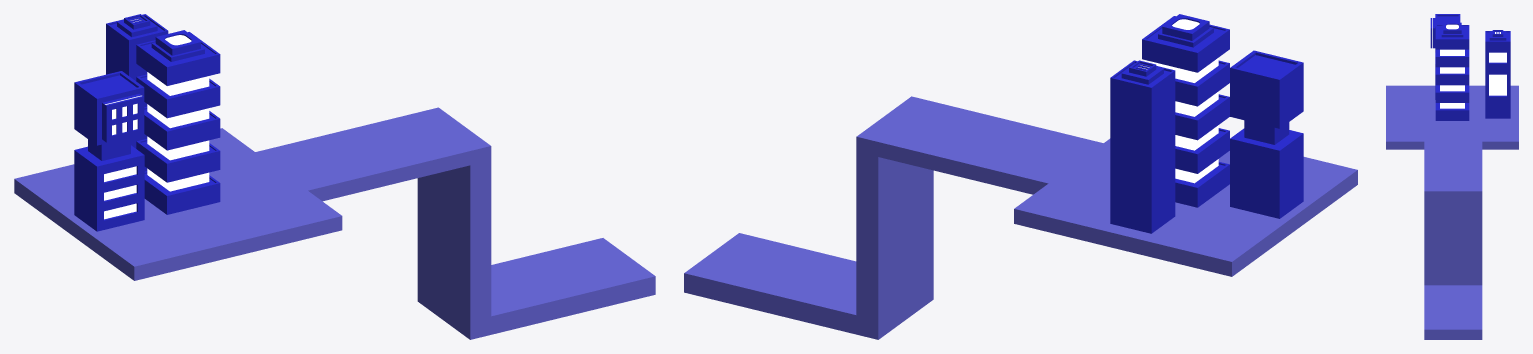
File: threejs.gltf
The picture shows the model from 3 angles, left to right: view 1: azimuth 30°, elevation 25°; view 2: azimuth 150°, elevation 25°; view 3: azimuth 270°, elevation 25°; orthographic projection. The views are drawn at different scales.
Parts seen in each view (by area): view 1: Plane.003, Cube, Plane.002, Plane.001, Plane; view 2: Plane.003, Plane.002, Plane.001, Cube, Plane; view 3: Plane.003, Cube, Plane.001, Plane, Plane.002.
Boxes of the visible parts, x1,y1,x2,y2 form: Plane.003: (14, 107, 655, 339); Cube: (136, 30, 220, 214); Plane.002: (74, 71, 144, 231); Plane.001: (106, 14, 168, 171); Plane: (147, 72, 209, 191); Plane.003: (684, 96, 1357, 339); Plane.002: (1230, 50, 1303, 218); Plane.001: (1110, 60, 1175, 233); Cube: (1142, 14, 1229, 207); Plane: (1153, 58, 1218, 183); Plane.003: (1386, 85, 1518, 339); Cube: (1435, 22, 1469, 120); Plane.001: (1485, 30, 1510, 118); Plane: (1440, 49, 1464, 108); Plane.002: (1430, 14, 1460, 99).
Size of the model in its own units: 22.55 by 13.44 by 8.44.
